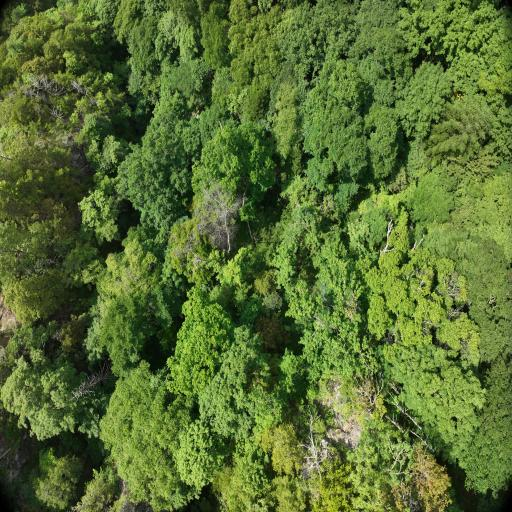dead-tree: (16, 71, 100, 130), (186, 176, 246, 257), (298, 407, 332, 477), (60, 363, 112, 401)
